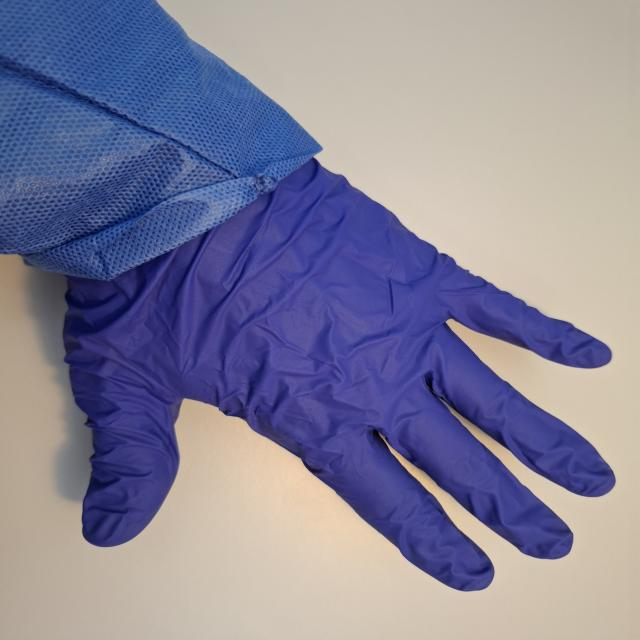glove_on: (26, 144, 620, 594)
